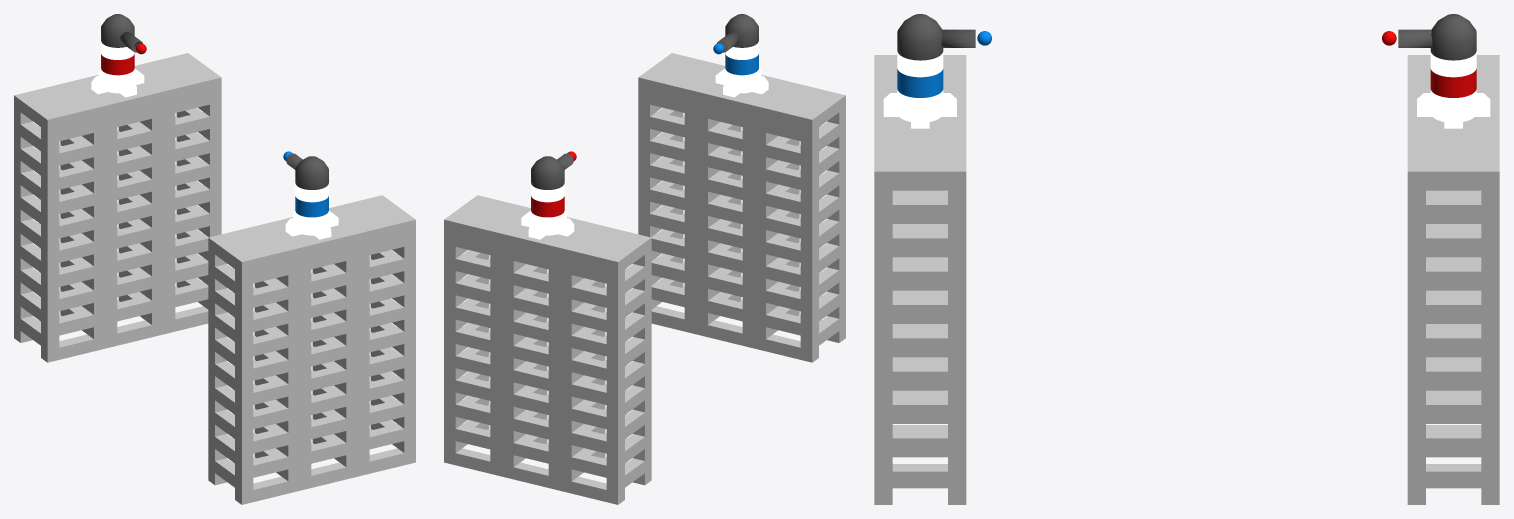
Rendered from Plank_Tower_Physics_Battle.glb.
3 views of the same model, side by side, from view 1: azimuth 30°, elevation 25°; view 2: azimuth 150°, elevation 25°; view 3: azimuth 270°, elevation 25° (orthographic). The views are drawn at different scales.
Parts seen in each view (by area): view 1: Cube.233, Cube.116, Cube.155, Cube.038, Cube.355, Cube.356, Cube.194, Cube.077, Cube.354, Cube.357, Cube.099, Cube.103 (+76 smaller); view 2: Cube.116, Cube.233, Cube.038, Cube.155, Cube.356, Cube.355, Cube.077, Cube.194, Cube.357, Cube.354, Cube.098, Cube.215 (+76 smaller); view 3: Cube.038, Cube.155, Cube.355, Cube.356, Cube.354, Cube.357, Cube.003, Cube.015, Cube.027, Cube.120, Cube.132, Cube.144 (+16 smaller).
Boxes of the visible parts, left/top/right/bottom form: Cube.233: left=14, top=81, right=105, bottom=131; Cube.116: left=208, top=223, right=299, bottom=273; Cube.155: left=134, top=53, right=221, bottom=103; Cube.038: left=329, top=195, right=415, bottom=245; Cube.355: left=285, top=183, right=338, bottom=239; Cube.356: left=91, top=41, right=144, bottom=97; Cube.194: left=72, top=75, right=163, bottom=117; Cube.077: left=266, top=217, right=357, bottom=259; Cube.354: left=286, top=153, right=328, bottom=189; Cube.357: left=101, top=14, right=143, bottom=52; Cube.099: left=235, top=355, right=299, bottom=383; Cube.103: left=235, top=331, right=299, bottom=358; Cube.116: left=754, top=81, right=845, bottom=131; Cube.233: left=560, top=223, right=651, bottom=273; Cube.038: left=638, top=53, right=725, bottom=103; Cube.155: left=444, top=195, right=530, bottom=245; Cube.356: left=521, top=183, right=574, bottom=239; Cube.355: left=715, top=41, right=768, bottom=97; Cube.077: left=696, top=75, right=787, bottom=117; Cube.194: left=502, top=217, right=593, bottom=259; Cube.357: left=531, top=153, right=573, bottom=189; Cube.354: left=716, top=14, right=758, bottom=52; Cube.098: left=754, top=213, right=818, bottom=241; Cube.215: left=560, top=355, right=624, bottom=383; Cube.038: left=874, top=132, right=966, bottom=188; Cube.155: left=1407, top=132, right=1499, bottom=188; Cube.355: left=883, top=51, right=956, bottom=128; Cube.356: left=1417, top=51, right=1490, bottom=128; Cube.354: left=897, top=14, right=975, bottom=60; Cube.357: left=1398, top=14, right=1476, bottom=60; Cube.003: left=874, top=464, right=966, bottom=488; Cube.015: left=874, top=364, right=966, bottom=388; Cube.027: left=874, top=264, right=966, bottom=288; Cube.120: left=1407, top=464, right=1499, bottom=488; Cube.132: left=1407, top=364, right=1499, bottom=388; Cube.144: left=1407, top=264, right=1499, bottom=288.
Size of the model in its own units: 30 by 51.62 by 68.
